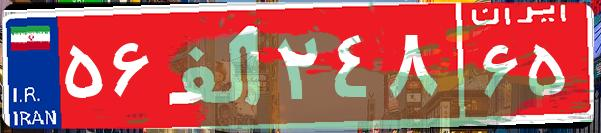2: (273, 28, 330, 110)
4: (330, 28, 385, 110)
5: (57, 26, 110, 107), (525, 38, 570, 115)
6: (475, 38, 525, 113), (110, 28, 158, 105)
8: (385, 28, 445, 110)
الف: (158, 15, 273, 115)
